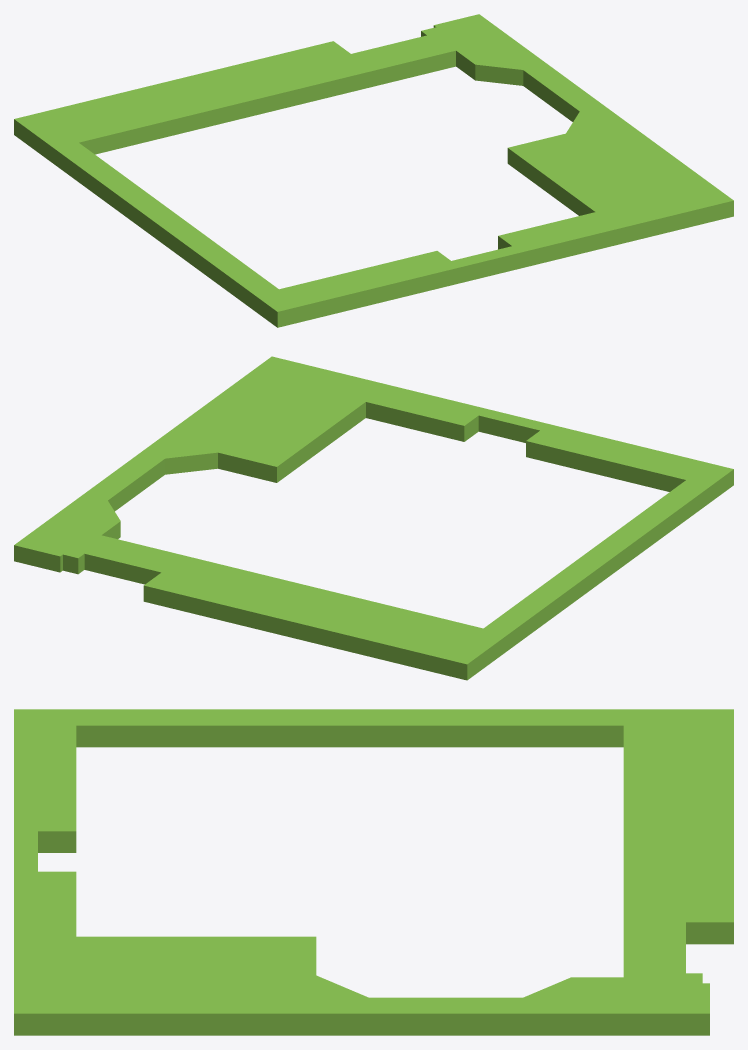
The model's file is x_zem_0_47_1_rmstrd.fbx.
3 renders of one model, top to bottom at view 1: azimuth 30°, elevation 25°; view 2: azimuth 150°, elevation 25°; view 3: azimuth 270°, elevation 25°, orthographic. The views are drawn at different scales.
Parts seen in each view (by area): view 1: x_zem_0_47_1_rmstrd1; view 2: x_zem_0_47_1_rmstrd1; view 3: x_zem_0_47_1_rmstrd1.
Boxes of the visible parts, x1,y1,x2,y2 form: x_zem_0_47_1_rmstrd1: (14, 14, 733, 327); x_zem_0_47_1_rmstrd1: (14, 356, 733, 680); x_zem_0_47_1_rmstrd1: (14, 709, 733, 1035).
Size of the model in its own units: 30 by 1 by 30.
